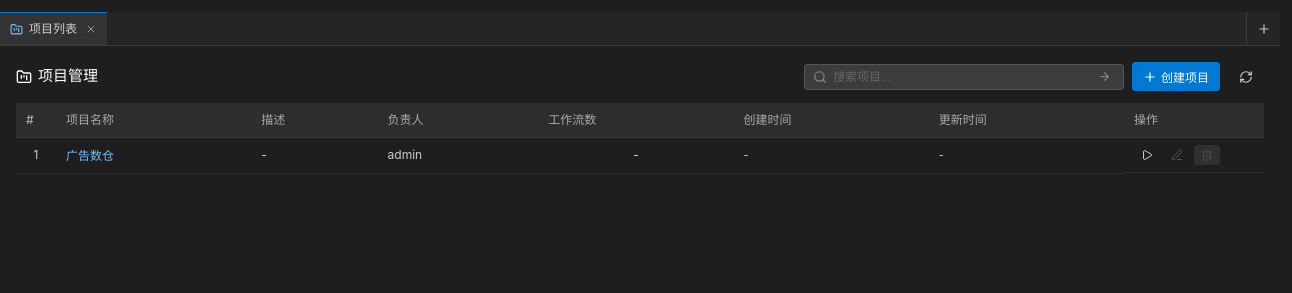
it: 「定时」入口的角色门禁 › 定时门禁不外溢：同一行的编辑/删除按钮不受定时权限影响
Click the button "广告数仓": (90, 154) [66,146,114,163]
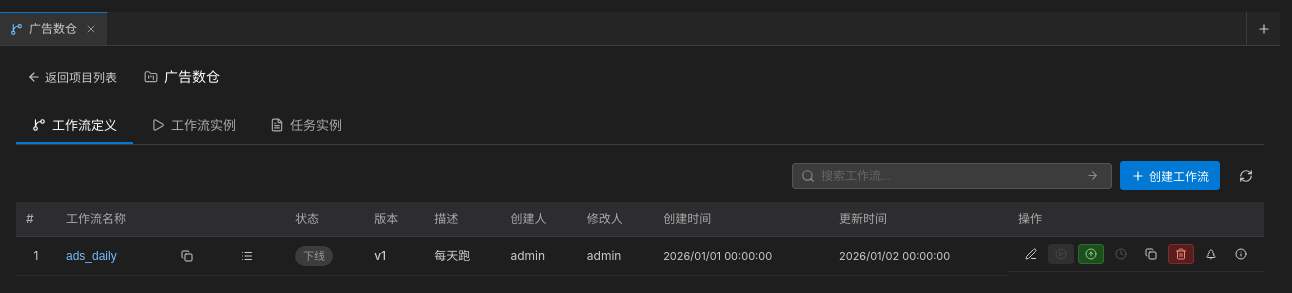
Expected: the button titled "编辑" is enabled, [1018,244,1044,264]
Expected: the button "ads_daily" is shown, [66,249,117,263]
Expected: the button titled "定时" is disabled, [1108,244,1134,264]
